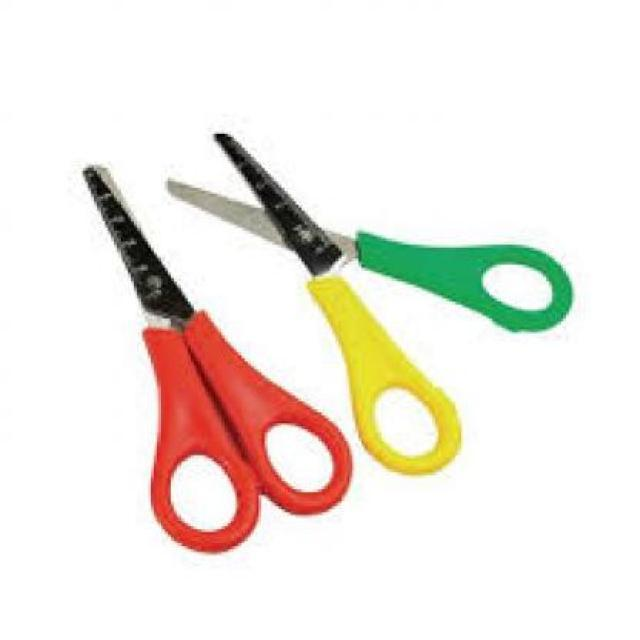scissors: (162, 130, 575, 476), (79, 162, 356, 555)
